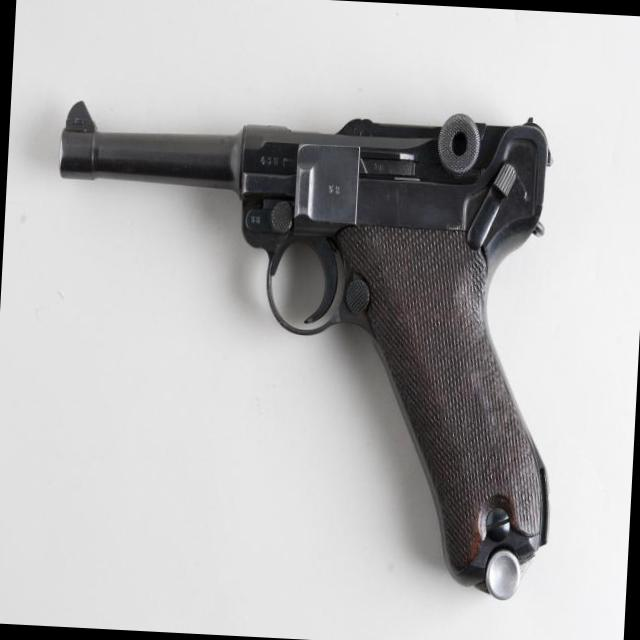Gun: (60, 102, 548, 598)
